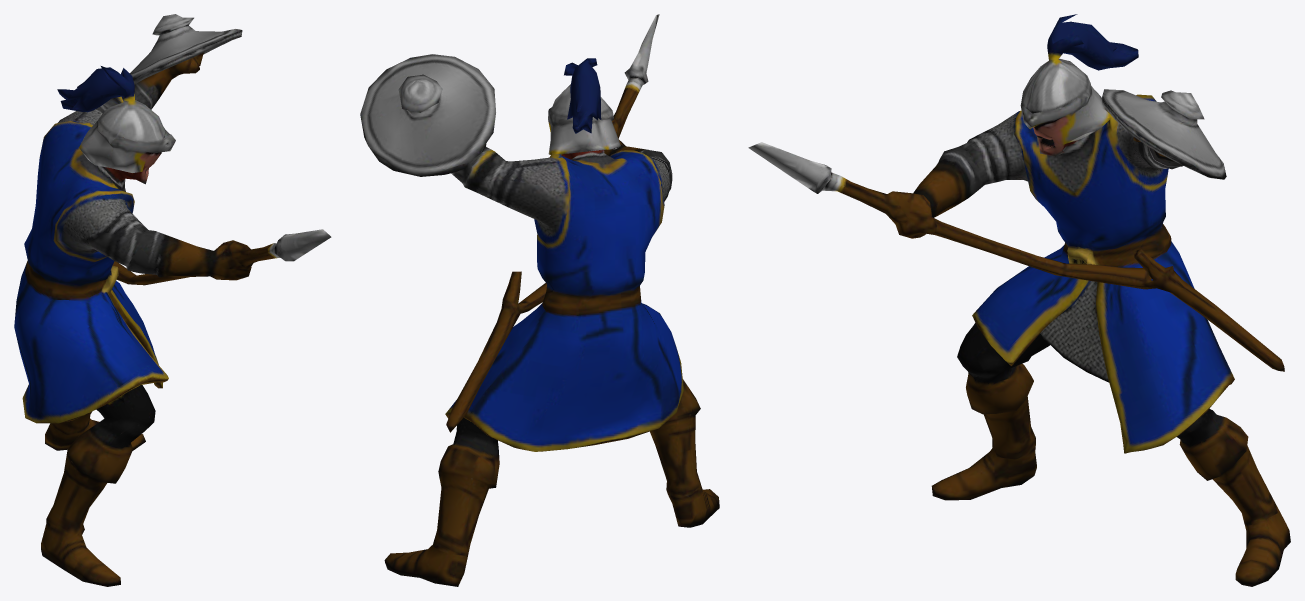
File: spearmen_strike.glb
3 views of the same model, side by side, from view 1: azimuth 30°, elevation 25°; view 2: azimuth 150°, elevation 25°; view 3: azimuth 270°, elevation 25° (orthographic). The views are drawn at different scales.
Visible parts, largest first — view 1: world; view 2: world; view 3: world.
Part boxes in pixels (left/top/right/bottom): world: left=14, top=14, right=331, bottom=586; world: left=360, top=14, right=719, bottom=586; world: left=748, top=14, right=1290, bottom=586.
Size of the model in its own units: 0.5876 by 0.9976 by 0.9615.
1 material, 1 textured.
